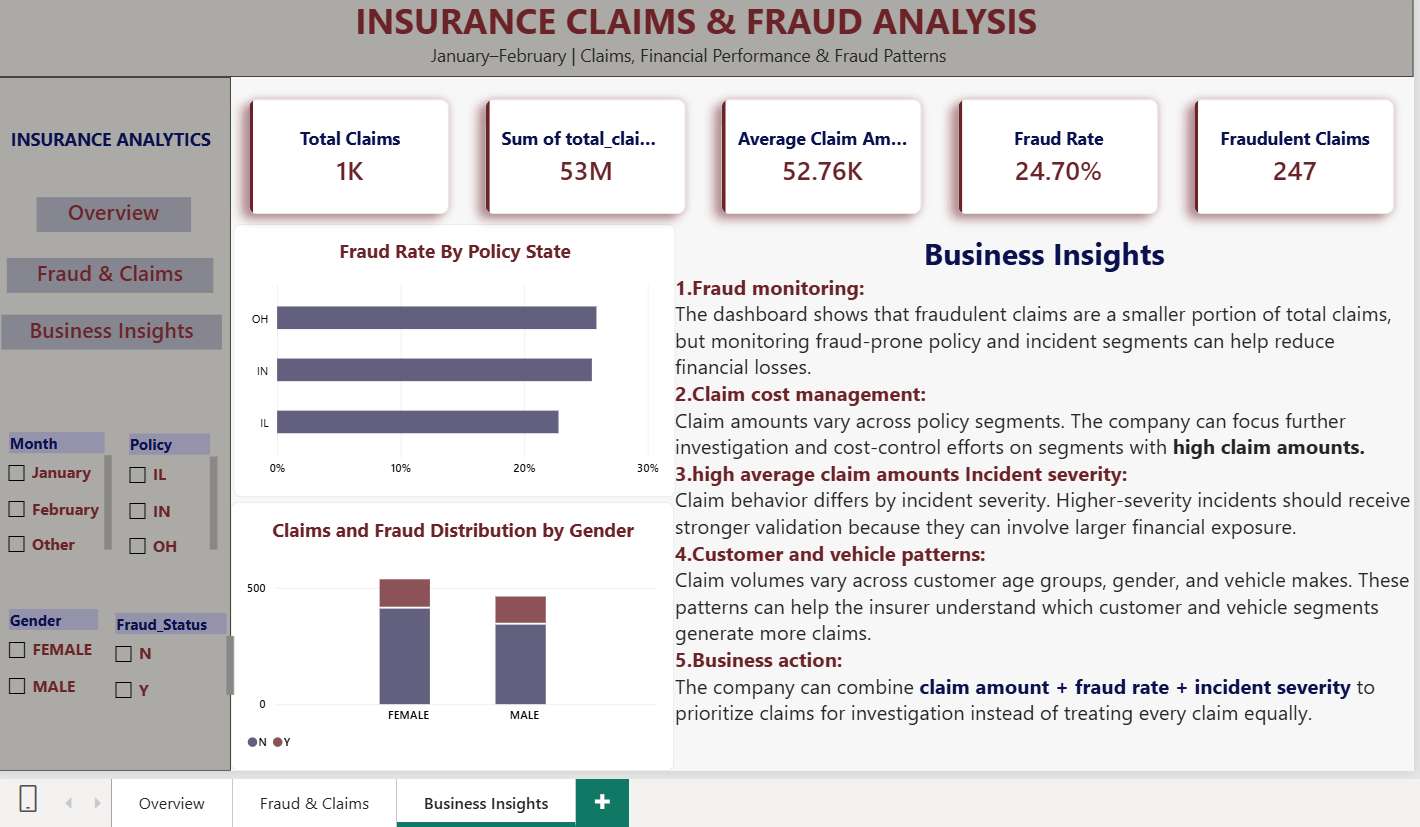

This screenshot's page, from the dashboard's own definition file:
{"tool":"powerbi","page":{"name":"Business Insights","canvas":[1500,820],"ordinal":2},"visuals":[{"type":"clusteredBarChart","title":"Fraud Rate By Policy State","fields":{"Category":["insurance dataset.policy_state"],"Y":["insurance dataset.Fraud Rate"]},"box":[251.4,241.4,467.1,288.6],"z":0},{"type":"columnChart","title":"Claims and Fraud Distribution by Gender","fields":{"Category":["insurance dataset.insured_sex"],"Y":["insurance dataset.Total Claims"],"Series":["insurance dataset.fraud_reported"]},"box":[248.6,535.7,468.6,284.3],"z":1000},{"type":"shape","box":[0,0,1500,85.7],"z":2000},{"type":"shape","box":[0,85.7,248.6,734.3],"z":3000},{"type":"textbox","box":[208.3,0,1065,50],"z":4000},{"type":"textbox","box":[408.3,50,648.3,35],"z":5000},{"type":"actionButton","title":"Overview","box":[43.3,213.3,163.3,36.7],"z":6000},{"type":"actionButton","title":"Fraud & Claims","box":[11.7,276.7,218.3,36.7],"z":7000},{"type":"textbox","box":[15,138.3,220,46.7],"z":8000},{"type":"textbox","box":[718.6,250,781.4,570],"z":9000},{"type":"actionButton","title":"Business Insights ","box":[5,336.7,233.3,36.7],"z":10000},{"type":"cardVisual","fields":{"Data":["insurance dataset.Total Claims","Sum(insurance dataset.total_claim_amount)","insurance dataset.Average Claim Amount","insurance dataset.Fraud Rate","insurance dataset.Fraudulent Claims"]},"box":[248.3,90,1251.7,160],"z":11000},{"type":"slicer","fields":{"Values":["insurance dataset.policy_state"]},"box":[133.3,463.3,101.7,135],"z":12000},{"type":"slicer","fields":{"Values":["insurance dataset.insured_sex"]},"box":[5,648.3,110,108.3],"z":13000},{"type":"slicer","fields":{"Values":["insurance dataset.Incident Month Name"]},"box":[5,461.7,116.7,136.7],"z":14000},{"type":"slicer","fields":{"Values":["insurance dataset.fraud_reported"]},"box":[118.3,653.3,133.3,98.3],"z":15000}]}

Visuals, with their boxes on the page's 1500x820 design canvas (x1, y1, x2, y2). These are canvas units, not pixel positions in the 1420x827 screenshot, which may show the page scaled, cropped or inside an application window:
"Fraud Rate By Policy State" clusteredBarChart: box(251, 241, 718, 530)
"Claims and Fraud Distribution by Gender" columnChart: box(249, 536, 717, 820)
shape: box(0, 0, 1500, 86)
shape: box(0, 86, 249, 820)
textbox: box(208, 0, 1273, 50)
textbox: box(408, 50, 1057, 85)
"Overview" actionButton: box(43, 213, 207, 250)
"Fraud & Claims" actionButton: box(12, 277, 230, 313)
textbox: box(15, 138, 235, 185)
textbox: box(719, 250, 1500, 820)
"Business Insights " actionButton: box(5, 337, 238, 373)
cardVisual - insurance dataset.Total Claims x Sum(insurance dataset.total_claim_amount): box(248, 90, 1500, 250)
slicer - insurance dataset.policy_state: box(133, 463, 235, 598)
slicer - insurance dataset.insured_sex: box(5, 648, 115, 757)
slicer - insurance dataset.Incident Month Name: box(5, 462, 122, 598)
slicer - insurance dataset.fraud_reported: box(118, 653, 252, 752)
